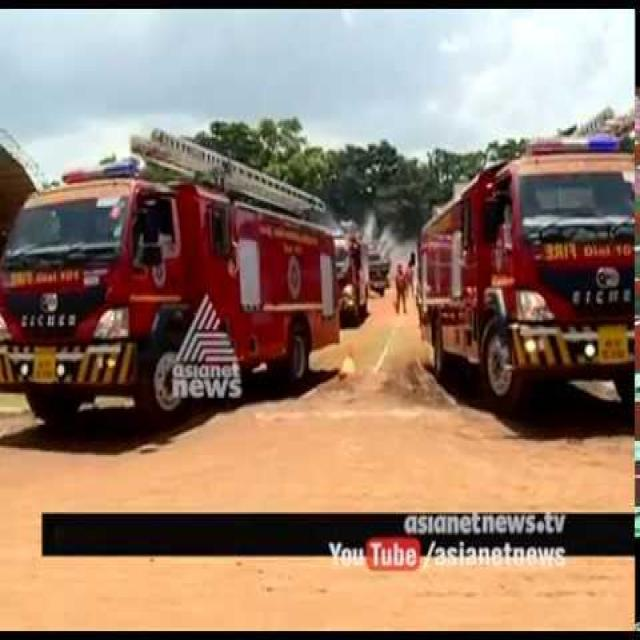Fire-engine: (0, 272, 636, 633), (0, 124, 348, 434), (410, 130, 638, 416)
